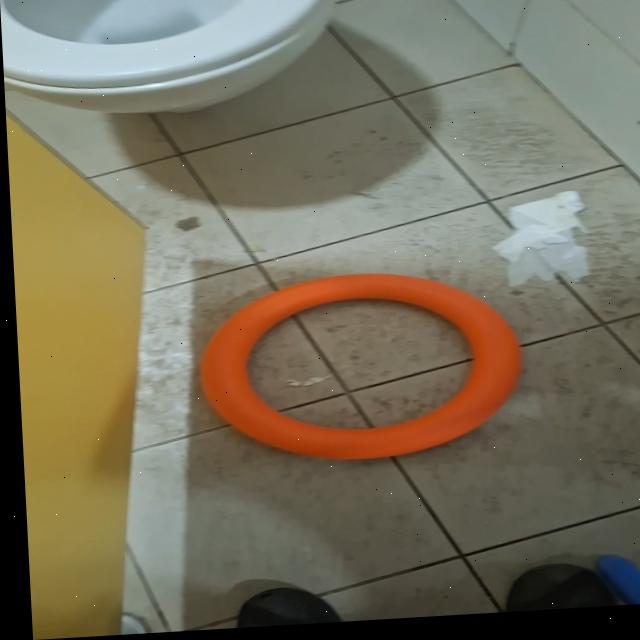note: (190, 269, 523, 472)
